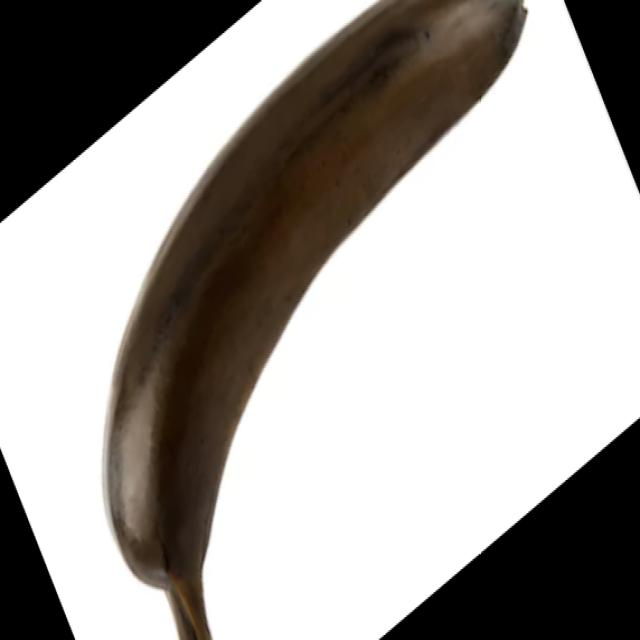Rotten: (82, 0, 546, 640)
